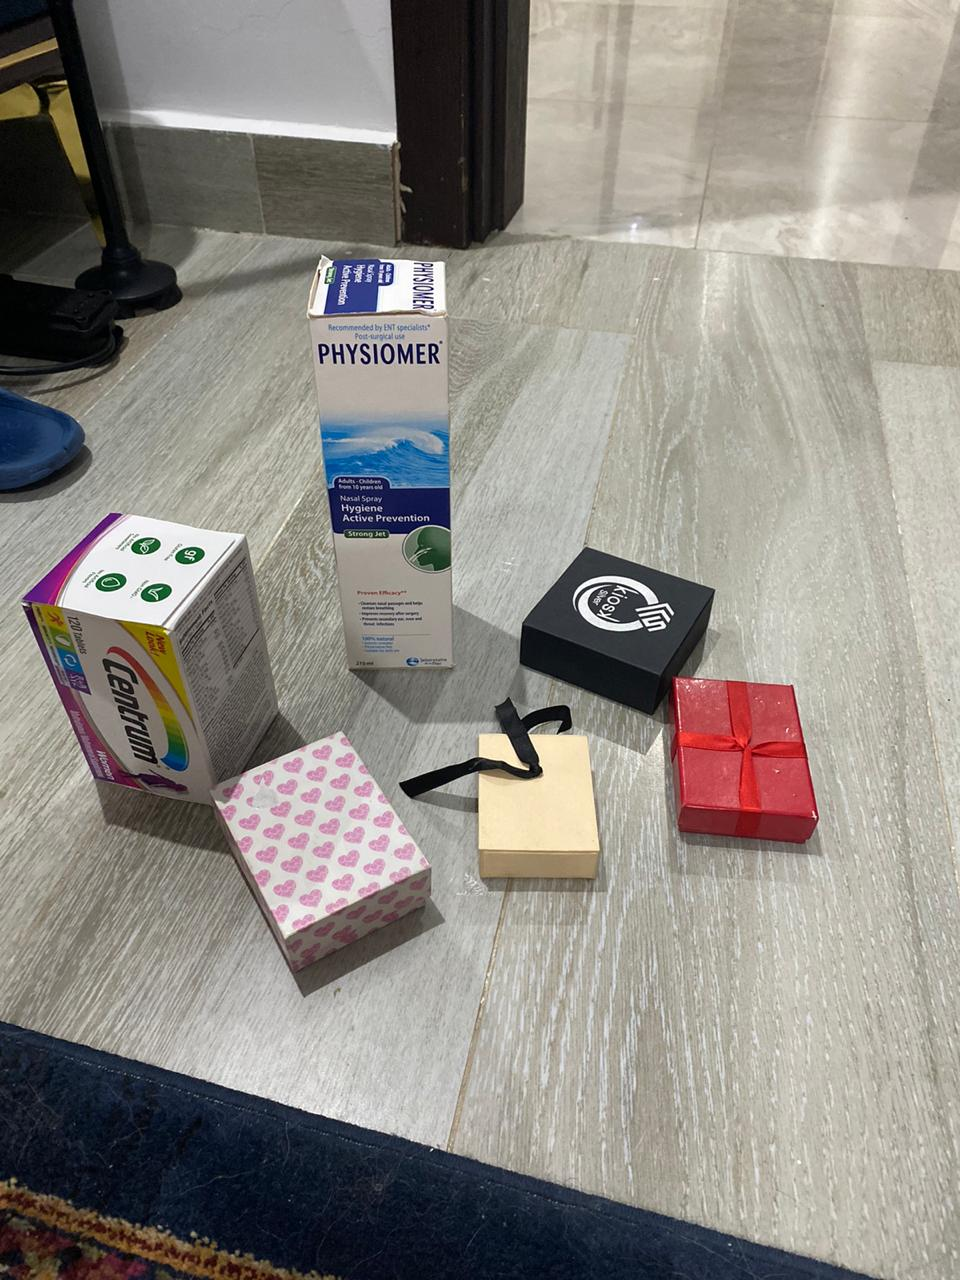Black Box: (673, 674, 823, 846)
Centrum: (21, 512, 286, 808)
Physiomer: (308, 252, 468, 682)
Pink Box: (210, 730, 439, 979)
Red Box: (519, 546, 720, 716)
Yellow Box: (473, 729, 606, 889)
